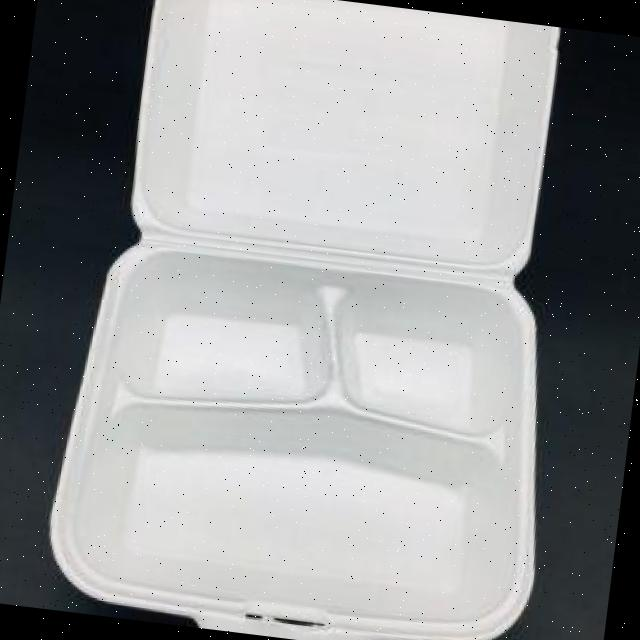styrofoam: (35, 0, 602, 640)
